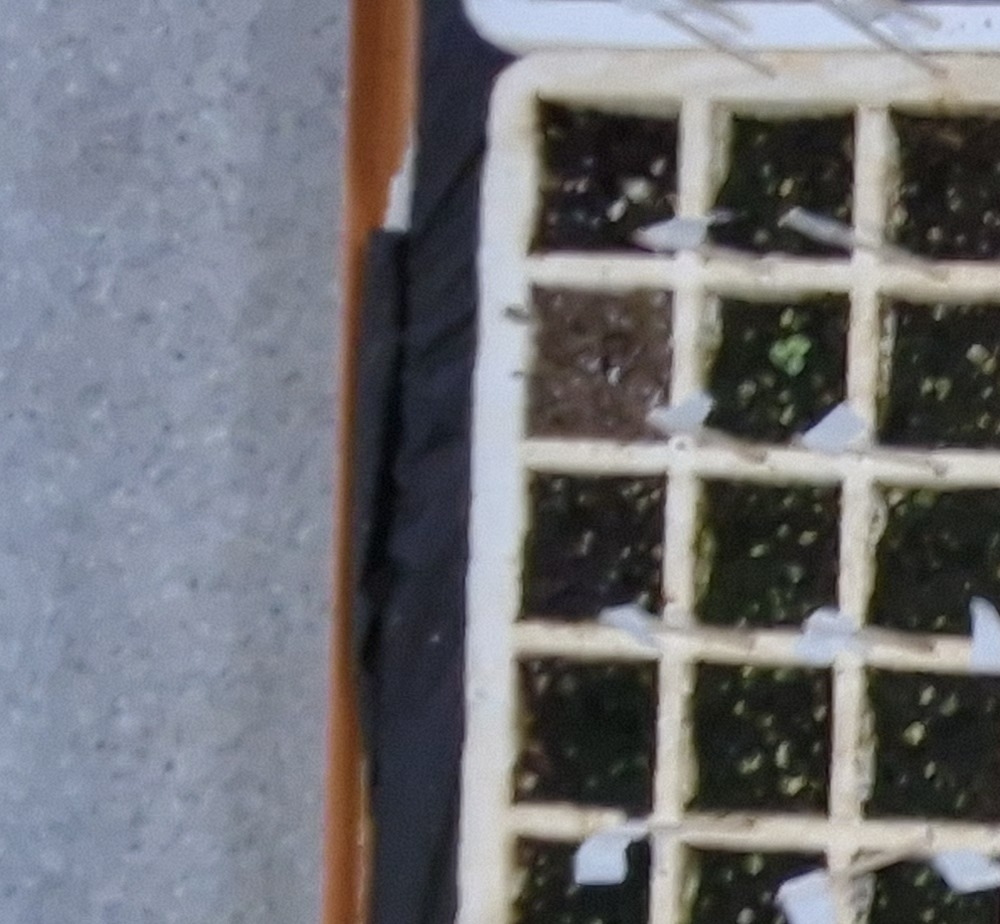Folha: (785, 335, 811, 356), (770, 340, 789, 360), (788, 354, 805, 376)
Germinacao: (769, 337, 810, 373)
